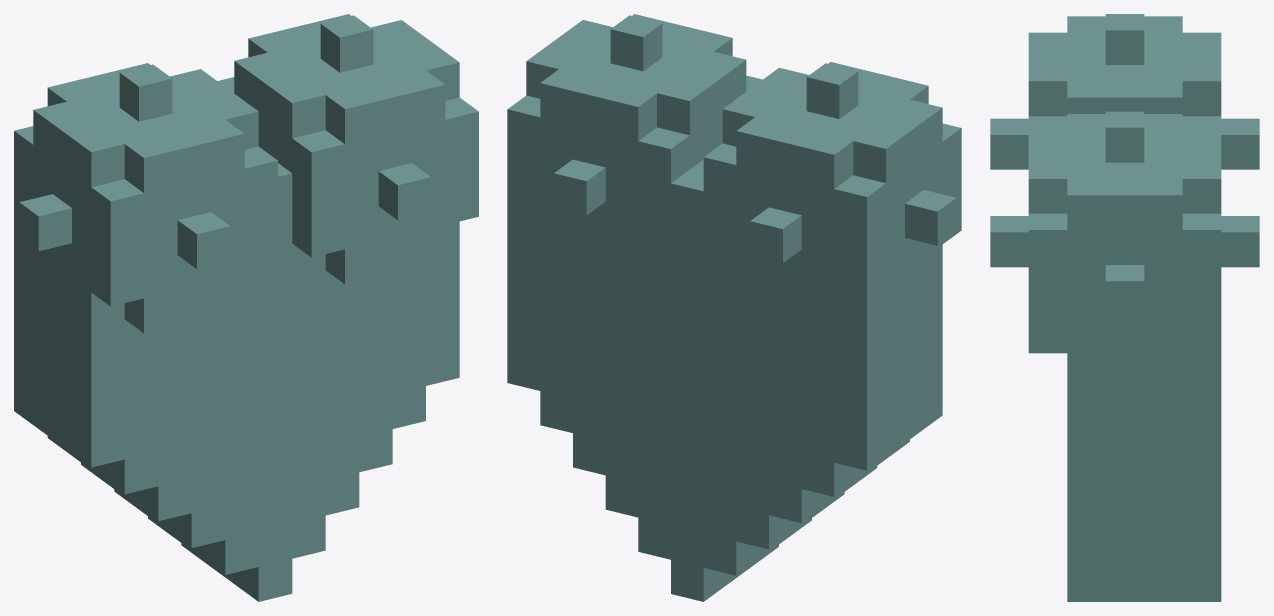
The model's file is health-14.glb.
The picture shows the model from 3 angles, left to right: view 1: azimuth 30°, elevation 25°; view 2: azimuth 150°, elevation 25°; view 3: azimuth 270°, elevation 25°; orthographic projection. The views are drawn at different scales.
Parts seen in each view (by area): view 1: Anatomical heart; view 2: Anatomical heart; view 3: Anatomical heart.
Boxes of the visible parts, x1,y1,x2,y2 form: Anatomical heart: (14, 14, 478, 601); Anatomical heart: (507, 14, 961, 601); Anatomical heart: (990, 14, 1259, 601).
Size of the model in its own units: 1.04 by 1.2 by 0.56.
